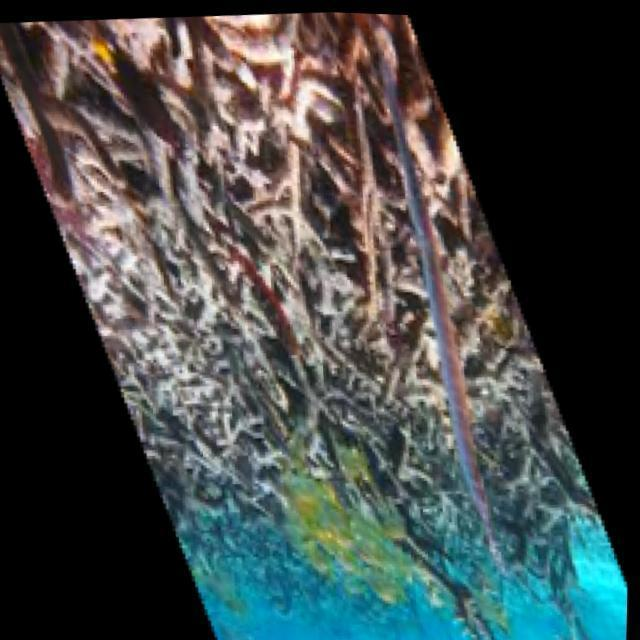Dead Coral: (105, 38, 509, 563)
